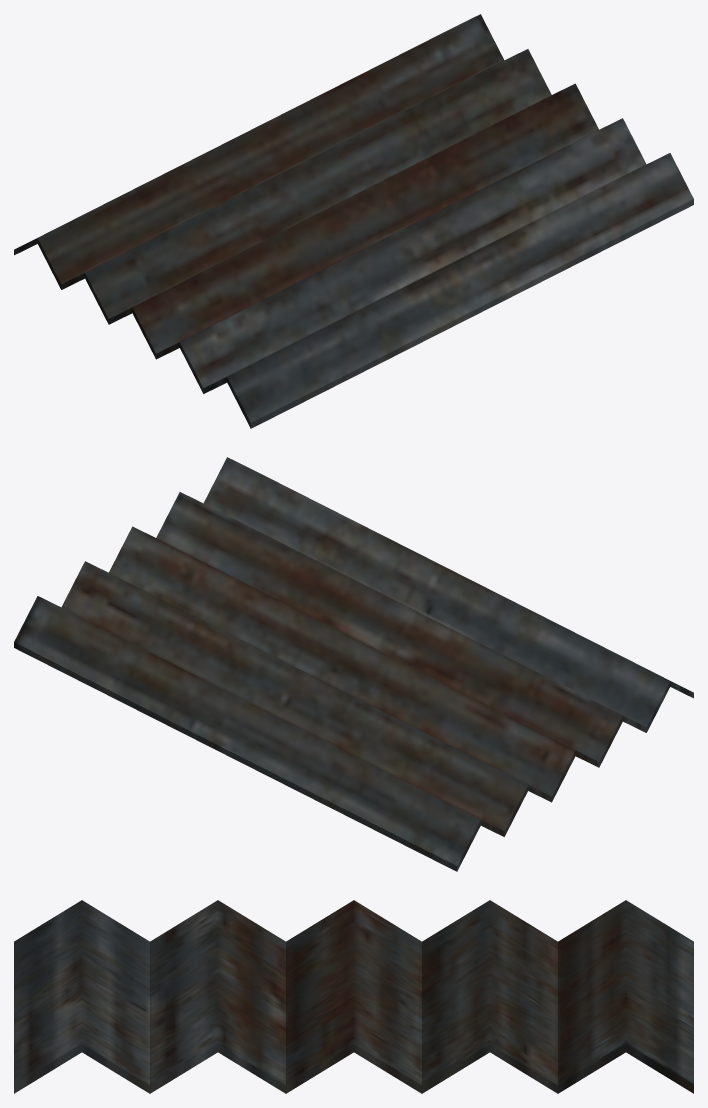
The model's file is roof_hr_3_side_2_angle_corner_2.dae.
3 views of the same model, one above another, from view 1: azimuth 30°, elevation 25°; view 2: azimuth 150°, elevation 25°; view 3: azimuth 270°, elevation 25° (orthographic). The views are drawn at different scales.
Parts seen in each view (by area): view 1: roof_hr_3_side_2_angle_corner_2; view 2: roof_hr_3_side_2_angle_corner_2; view 3: roof_hr_3_side_2_angle_corner_2.
Part boxes in pixels (<box>): roof_hr_3_side_2_angle_corner_2: <box>14,14,693,428</box>; roof_hr_3_side_2_angle_corner_2: <box>14,457,693,871</box>; roof_hr_3_side_2_angle_corner_2: <box>14,900,693,1093</box>.
Bounding box in the file's own units: 0.8 × 0.7407 × 0.26.
Materials: 1 (1 with a texture image).
